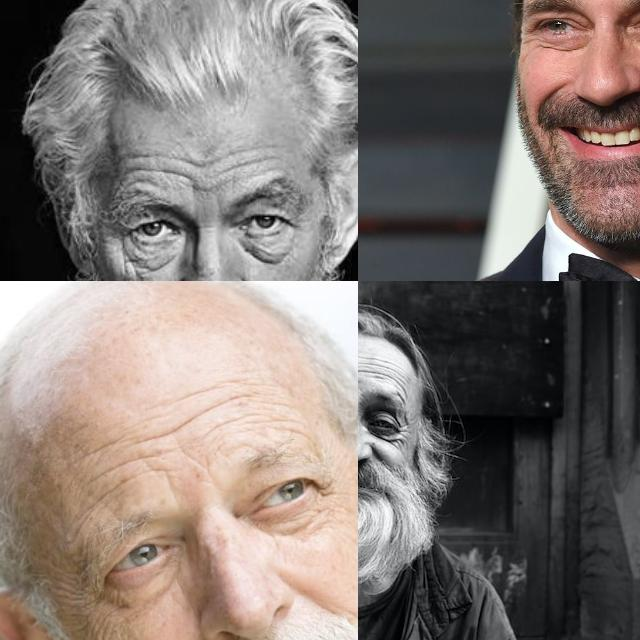crows_feet: (73, 586, 119, 640), (319, 472, 351, 518), (523, 26, 541, 56), (395, 425, 407, 447)
forehead: (177, 384, 283, 436), (88, 443, 175, 495), (173, 149, 207, 203), (225, 143, 277, 177), (126, 146, 162, 188), (359, 358, 399, 384)
gummy_smile: (538, 79, 574, 101), (366, 444, 388, 466)
